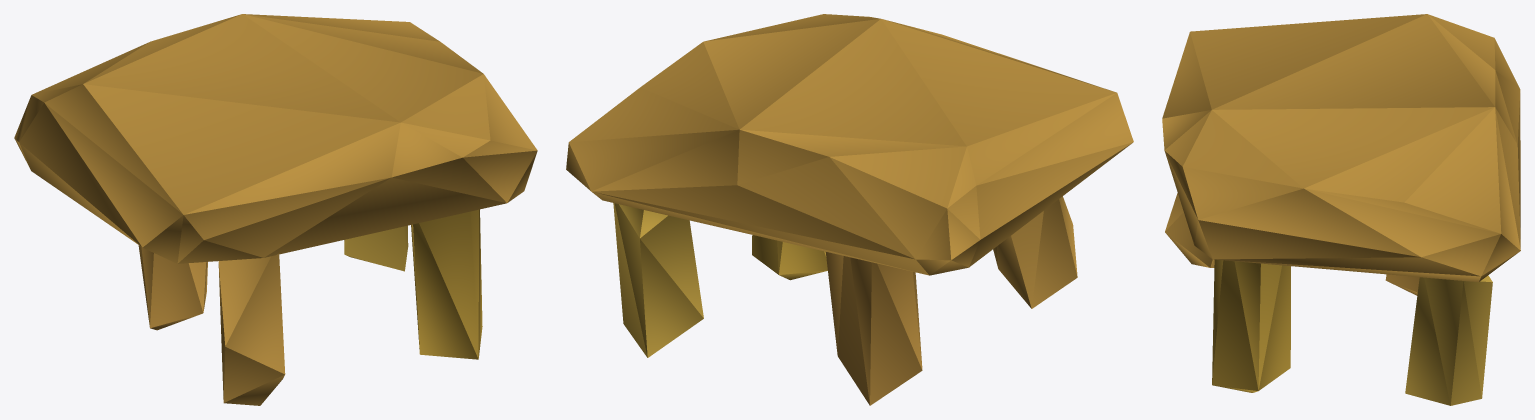
The model's file is table.fbx.
3 renders of one model, left to right at view 1: azimuth 30°, elevation 25°; view 2: azimuth 150°, elevation 25°; view 3: azimuth 270°, elevation 25°, orthographic. The views are drawn at different scales.
Visible parts, largest first — view 1: table; view 2: table; view 3: table.
Part boxes in pixels (box(x1,y1,x2,y2)): table: box(14, 14, 537, 405); table: box(566, 14, 1133, 405); table: box(1162, 14, 1520, 405).
Size of the model in its own units: 2.38 by 1.44 by 1.81.
